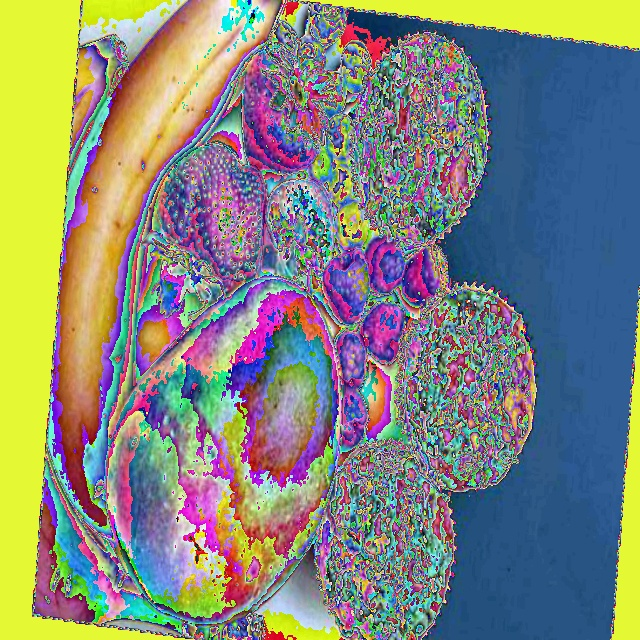background: (33, 0, 535, 640)
